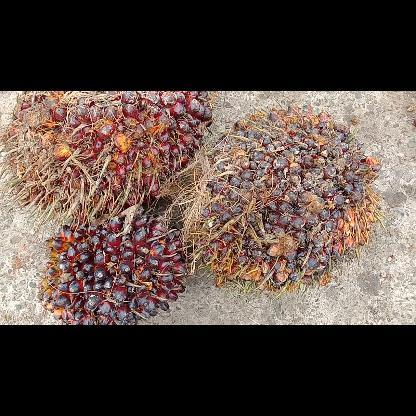Kurang masak: (193, 104, 383, 288), (38, 210, 186, 324)
TBS masak: (1, 91, 211, 216)
